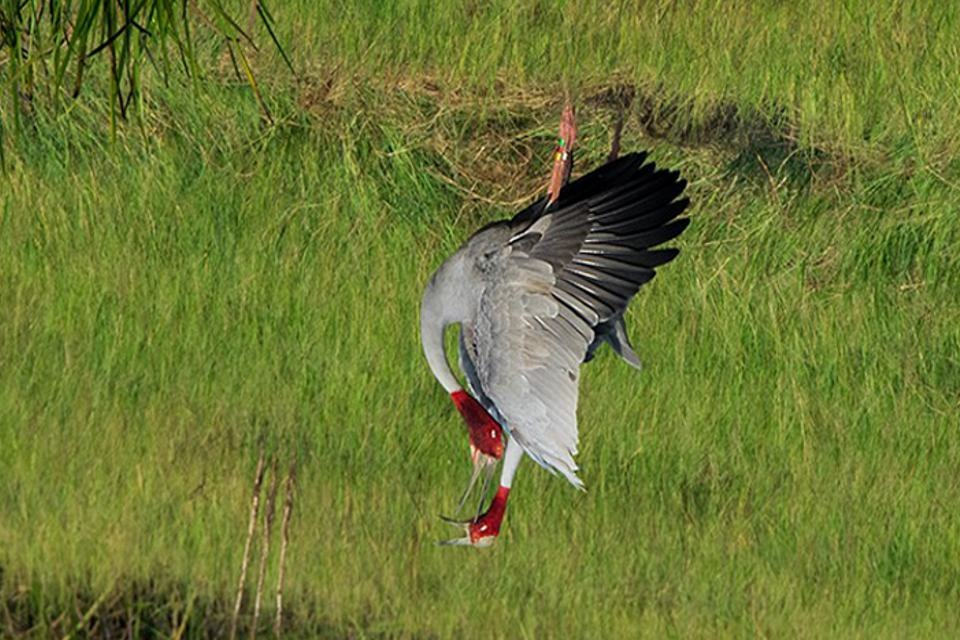crane: (417, 130, 677, 500)
